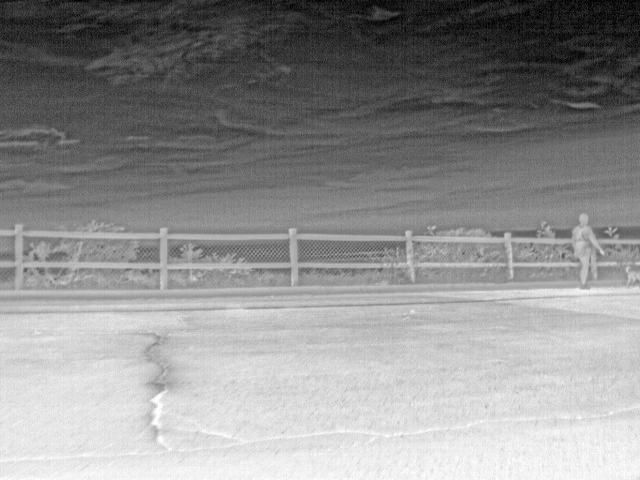dog: (624, 267, 640, 287)
person: (571, 210, 606, 291)
